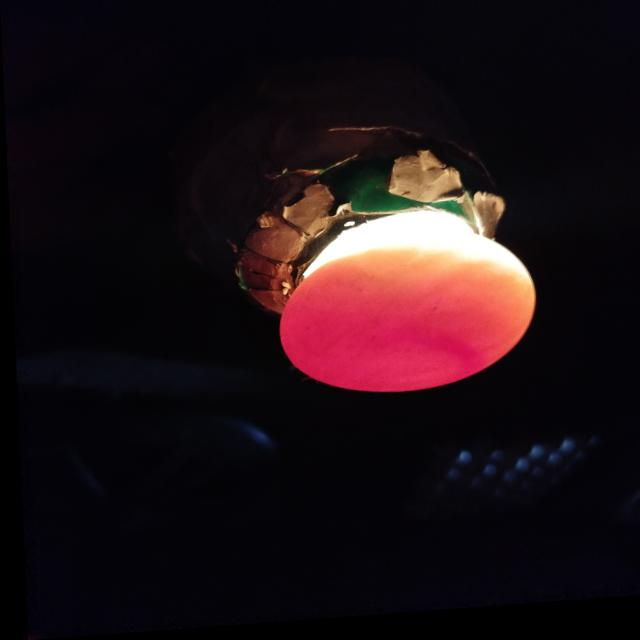Gema Quebrada: (276, 297, 479, 398)
